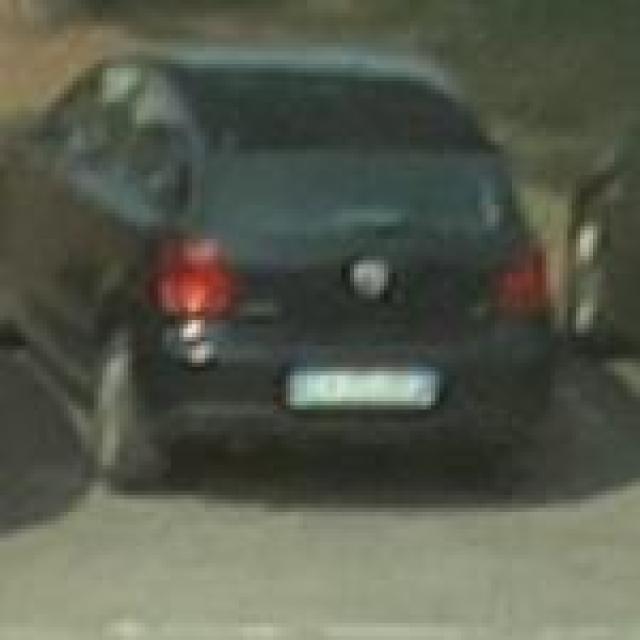cars-sUYr: (0, 33, 573, 529)
